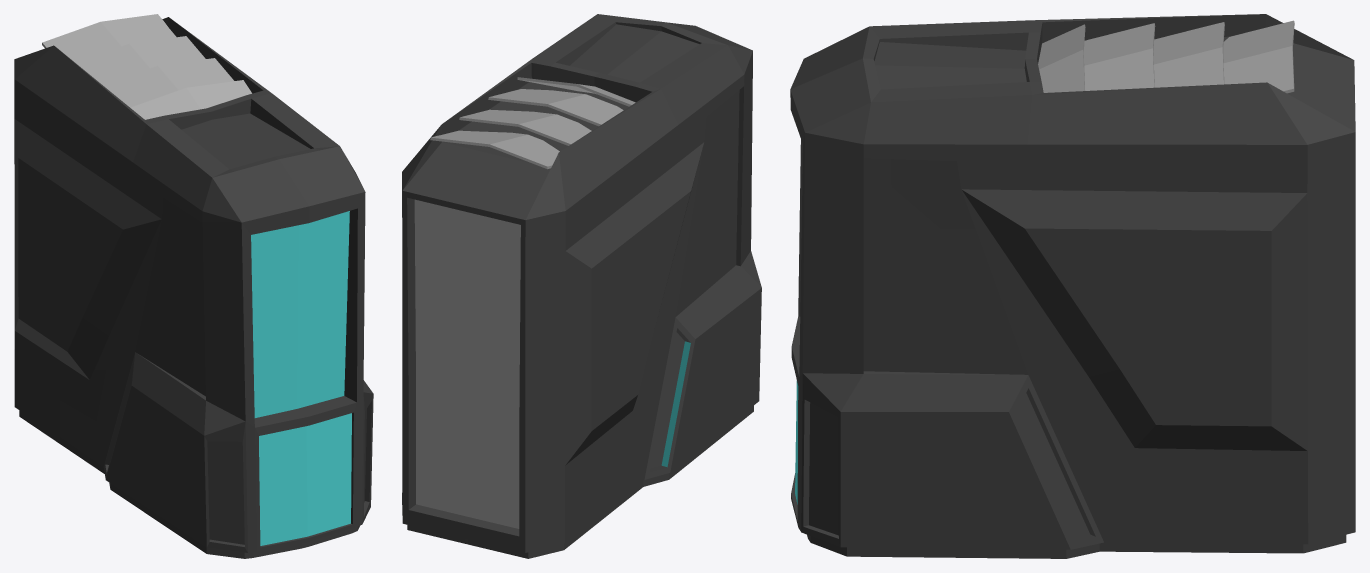
3 renders of one model, left to right at view 1: azimuth 30°, elevation 25°; view 2: azimuth 150°, elevation 25°; view 3: azimuth 270°, elevation 25°, orthographic. The views are drawn at different scales.
Visible parts, largest first — view 1: pc; view 2: pc; view 3: pc.
Part boxes in pixels (x1,y1,x2,y2): pc: (14,14,373,558); pc: (402,14,761,558); pc: (790,14,1355,558).
Bounding box in the file's own units: 33.04 × 65.34 × 72.5.
